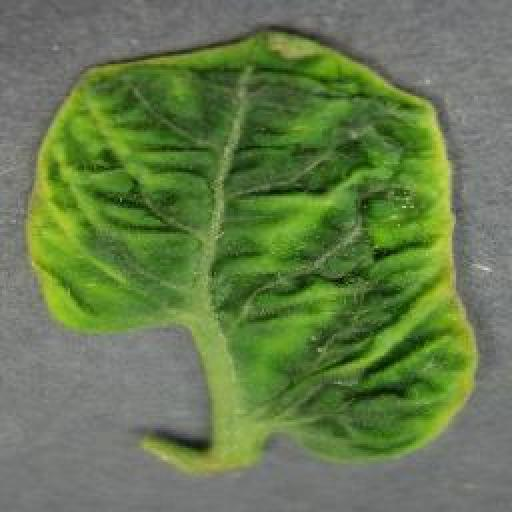disease_tomato: (24, 27, 479, 461)
